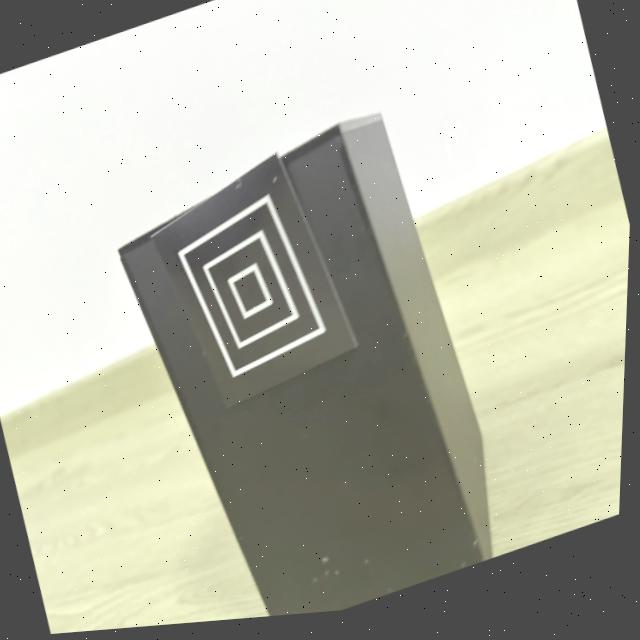BULLSEYE: (153, 154, 361, 415)
